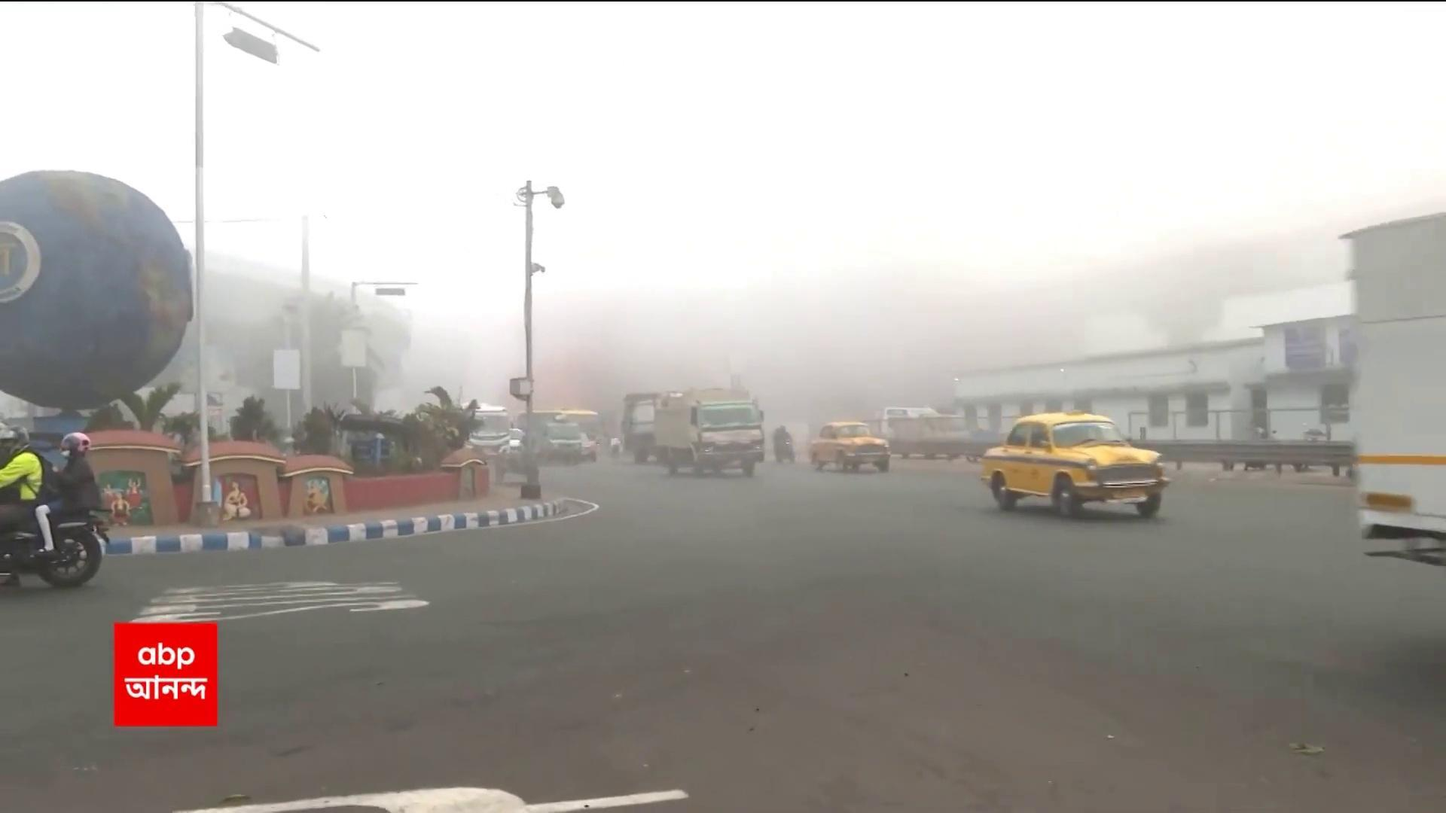Bike: (770, 424, 796, 463)
Car: (978, 407, 1173, 521), (808, 420, 891, 474)
Truck: (648, 388, 766, 477)
